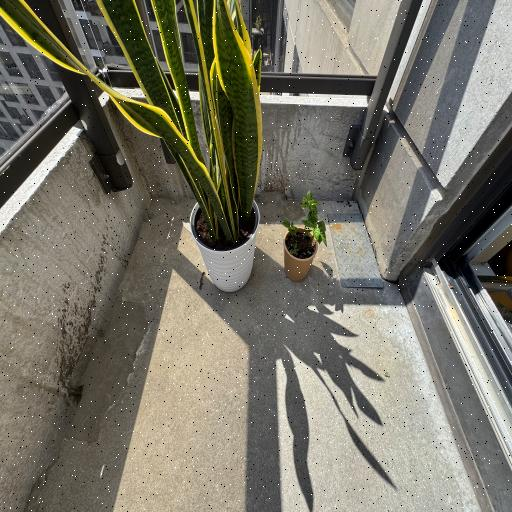Plant Pot: (189, 193, 261, 293), (282, 222, 317, 282)
